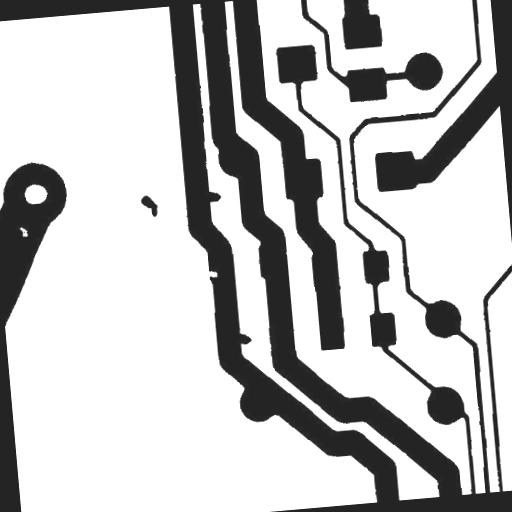copper: (132, 186, 166, 226)
mousebite: (198, 261, 226, 286)
pin-hole: (11, 218, 36, 245)
spur: (226, 324, 260, 353), (198, 182, 229, 208)
